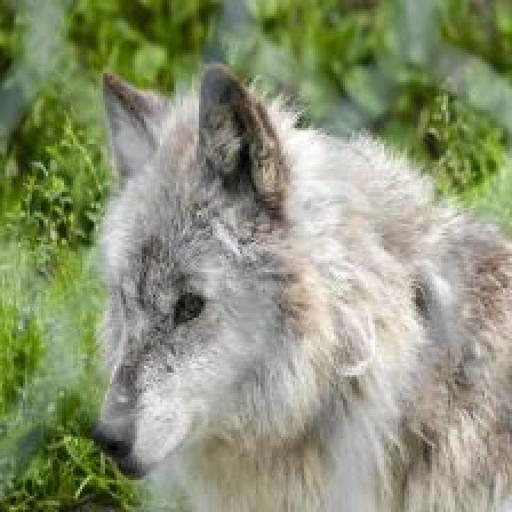wolf: (96, 61, 512, 512)
